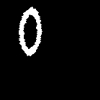chain: (19, 7, 41, 55)
